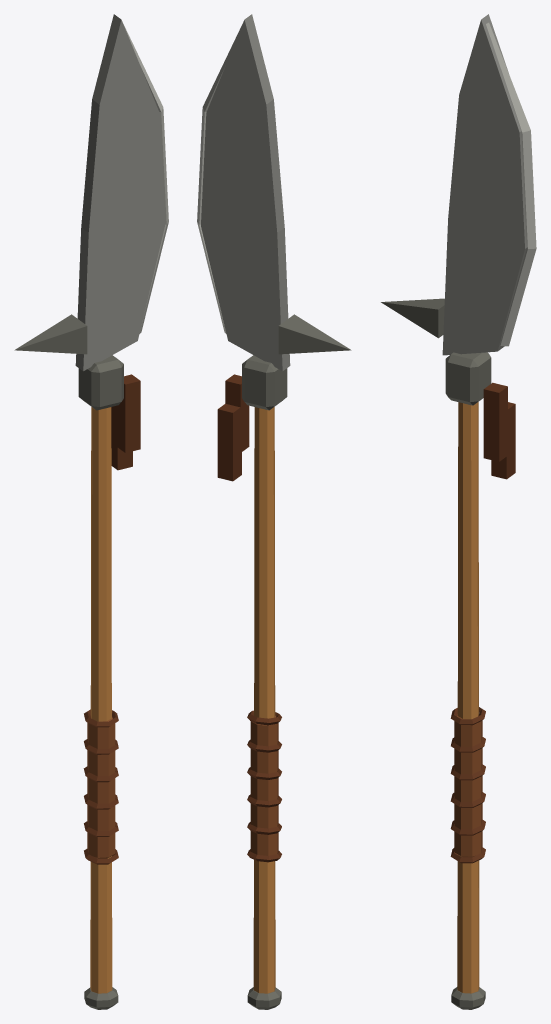
The model's file is StoneGlaive.fbx.
The picture shows the model from 3 angles, left to right: view 1: azimuth 30°, elevation 25°; view 2: azimuth 150°, elevation 25°; view 3: azimuth 330°, elevation 25°; orthographic projection.
Visible parts, largest first — view 1: StoneGlaive; view 2: StoneGlaive; view 3: StoneGlaive.
Part boxes in pixels (left/top/right/bottom): StoneGlaive: left=14, top=14, right=168, bottom=1009; StoneGlaive: left=197, top=14, right=351, bottom=1009; StoneGlaive: left=381, top=14, right=536, bottom=1009.
Bounding box in the file's own units: 1.42 × 8.62 × 0.34.
Materials: 1 (1 with a texture image).
